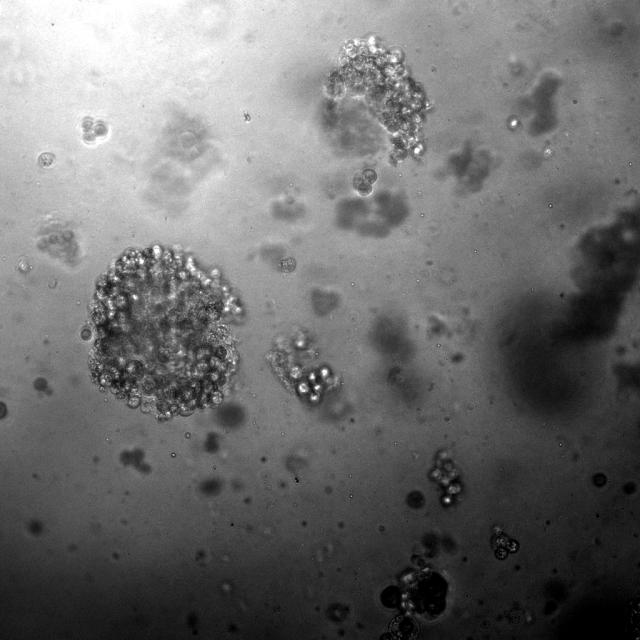organoid: (500, 199, 639, 416), (80, 244, 244, 421), (320, 35, 430, 165), (379, 531, 457, 639), (265, 327, 340, 406), (336, 190, 410, 236), (439, 139, 499, 192), (36, 217, 81, 266), (527, 70, 561, 134), (429, 450, 462, 507), (490, 527, 519, 559), (213, 401, 246, 428), (119, 448, 151, 474), (81, 116, 109, 145), (353, 168, 377, 196), (326, 602, 350, 623), (33, 377, 52, 395), (406, 490, 425, 508), (204, 431, 219, 452), (38, 151, 56, 168), (16, 255, 32, 274), (278, 257, 296, 272), (592, 472, 607, 487), (0, 401, 8, 420), (378, 525, 384, 532)
